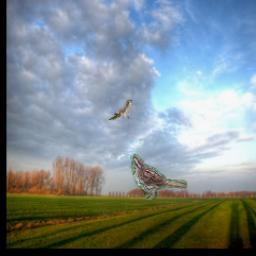Cuckoo: (109, 99, 133, 120)
Sparrow: (131, 153, 188, 200)
